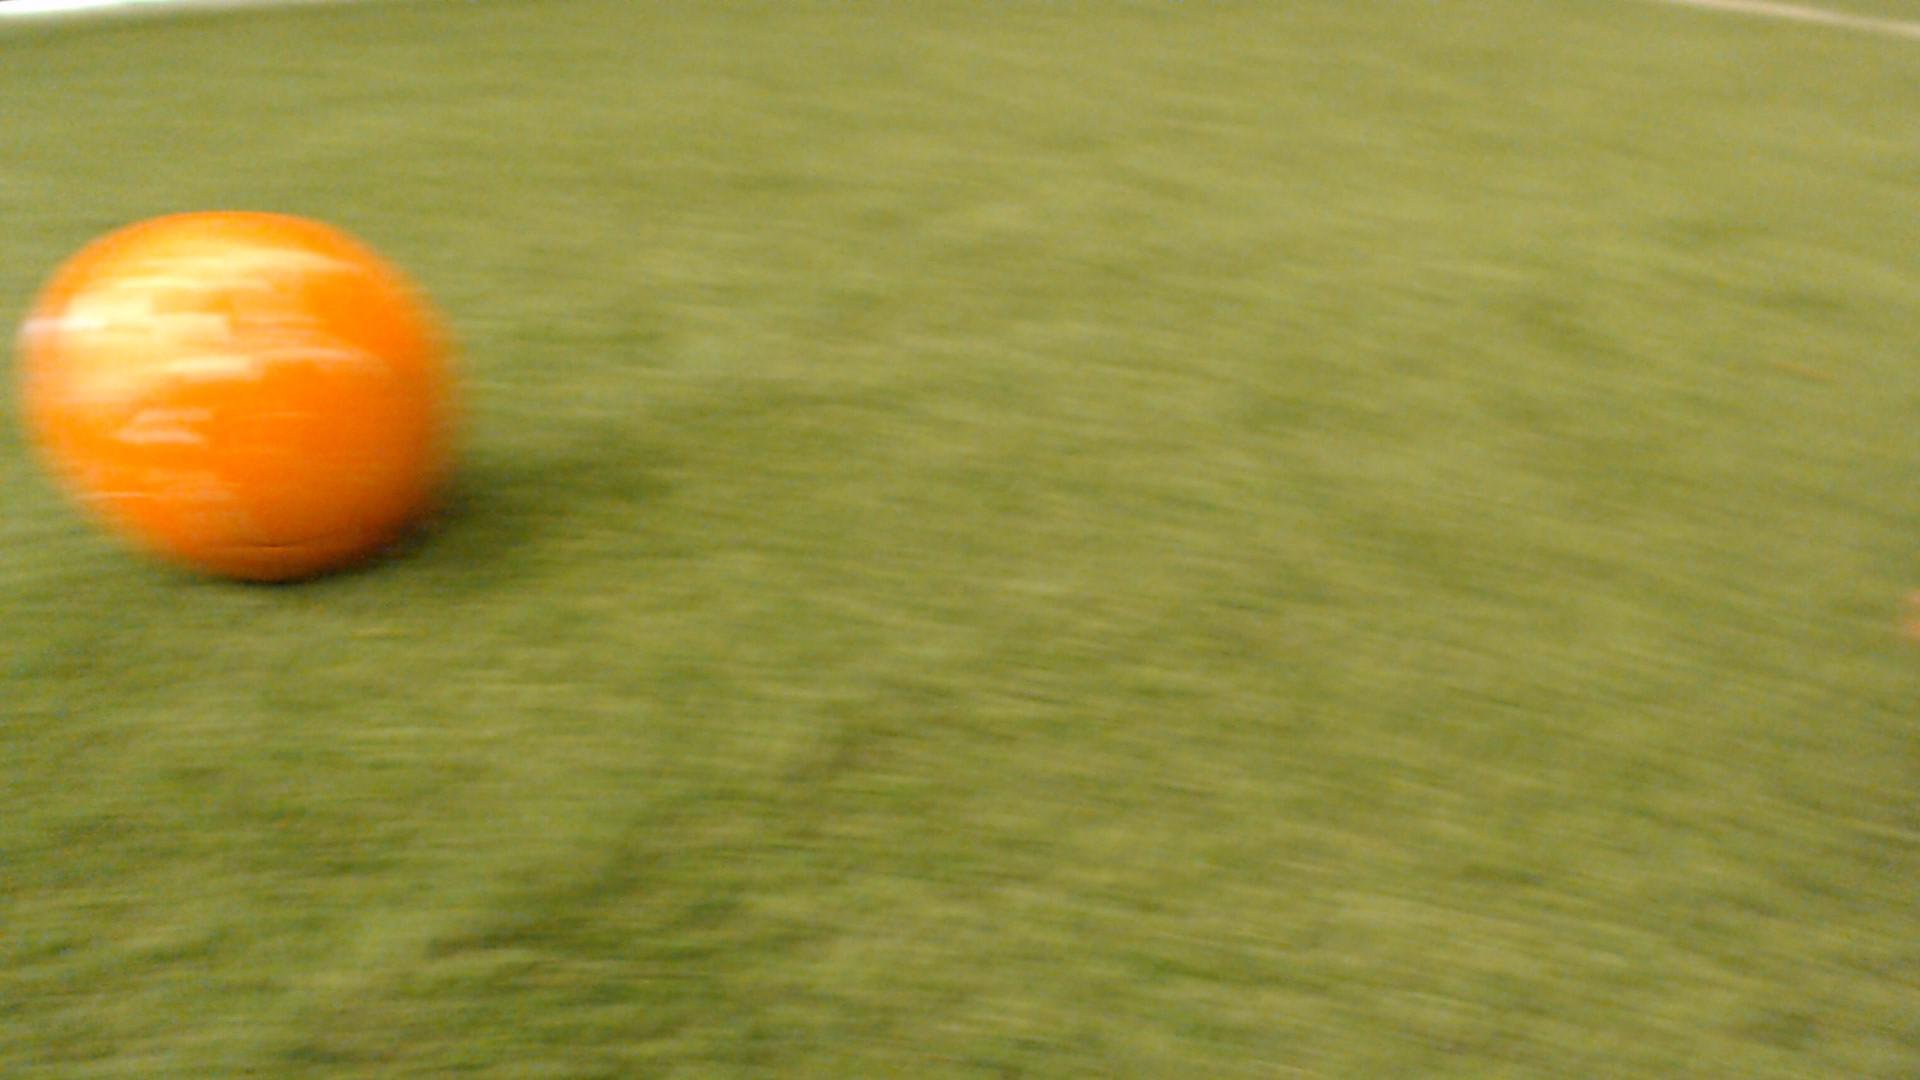bola: (0, 179, 501, 636)
